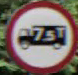Heavy Vehicles: (10, 4, 71, 64)
